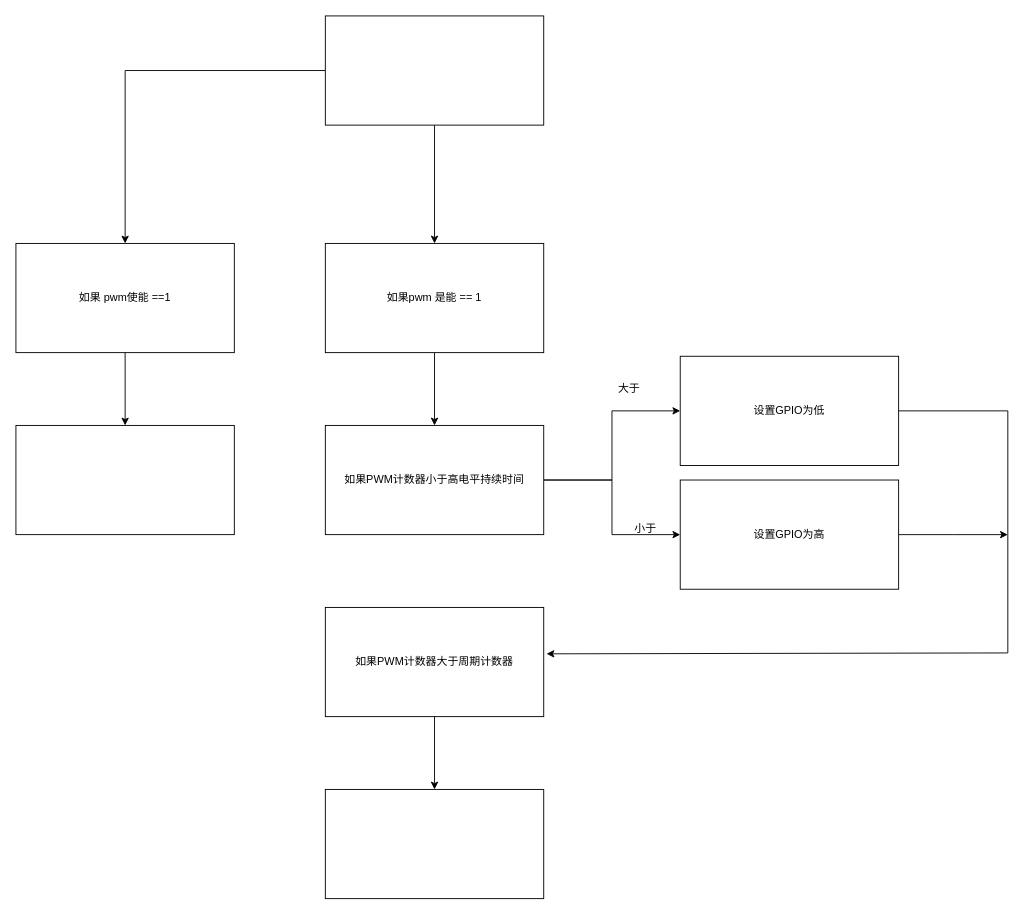
This 1031x915 diagram has some shape labels left out. The shapes that lost their labels are listed below. From the top down, each one's box as (x1, y1, x2, y2) in pixels, then its label:
(324, 15, 544, 125): 杵初始化
(15, 425, 234, 535): 计数器++;
(324, 789, 544, 899): 计数器清零
